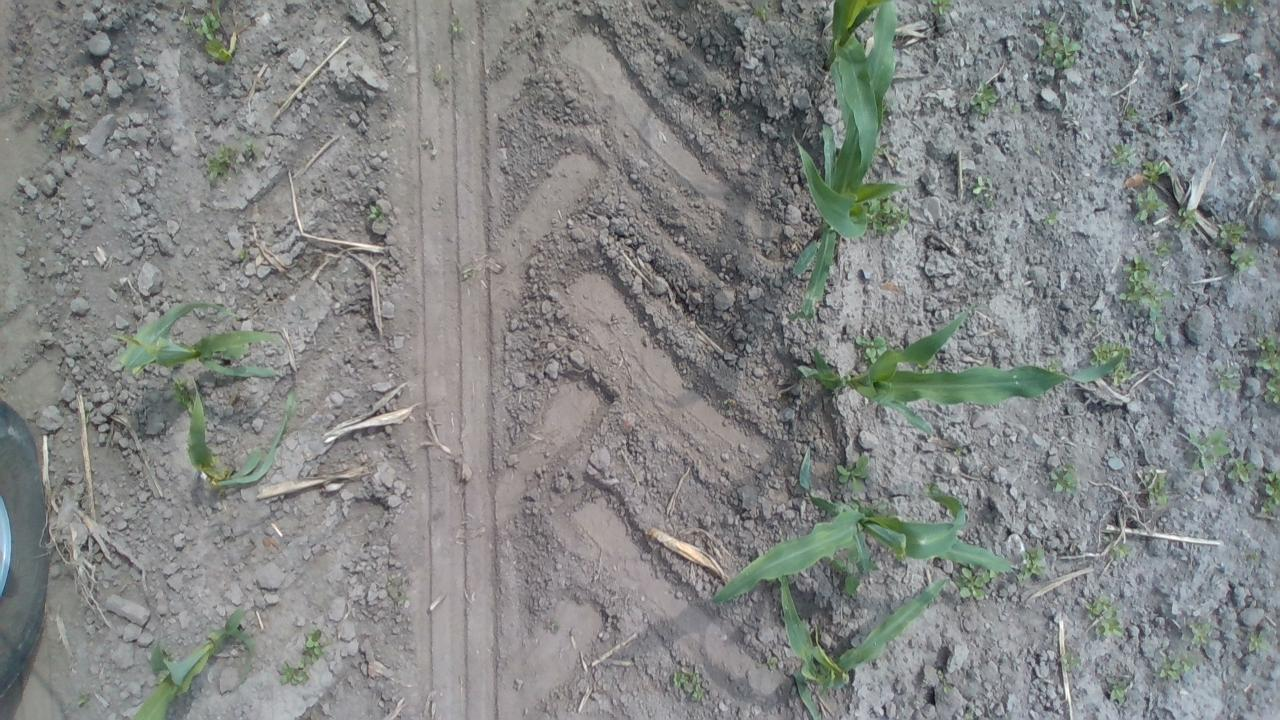Maize: (712, 440, 1026, 609), (786, 6, 914, 322), (105, 293, 298, 502), (786, 321, 1132, 436), (766, 562, 970, 718), (126, 603, 258, 720), (819, 0, 893, 173)
Weeds: (180, 6, 240, 65), (1118, 252, 1174, 313), (1037, 18, 1085, 74), (200, 142, 264, 182), (1184, 426, 1232, 476), (1093, 334, 1138, 386), (1010, 535, 1053, 588), (1251, 332, 1280, 408), (949, 565, 999, 607), (864, 196, 914, 238), (1085, 597, 1131, 641), (1152, 646, 1204, 684), (830, 452, 874, 495), (1129, 183, 1168, 224), (670, 664, 710, 703), (1143, 468, 1176, 514), (1213, 215, 1250, 255), (963, 80, 1004, 116), (965, 172, 1001, 208), (1046, 466, 1085, 498), (1257, 465, 1280, 519), (832, 562, 868, 596), (924, 660, 956, 698), (1213, 364, 1250, 396), (854, 330, 890, 361), (274, 662, 314, 688), (1172, 203, 1200, 238), (302, 625, 327, 663), (1183, 618, 1214, 648), (1244, 628, 1275, 658), (1228, 454, 1256, 484), (48, 119, 78, 146), (1055, 650, 1085, 676), (1118, 99, 1144, 128), (1104, 537, 1134, 562), (1107, 141, 1132, 171), (1230, 244, 1256, 272), (1215, 0, 1260, 16), (1104, 682, 1132, 706), (389, 576, 410, 608), (924, 0, 957, 19), (1137, 156, 1163, 180), (74, 690, 99, 714), (230, 244, 254, 268), (365, 198, 387, 224), (447, 17, 468, 41), (754, 0, 776, 22), (1038, 209, 1058, 232), (957, 701, 980, 720), (765, 653, 781, 670)
